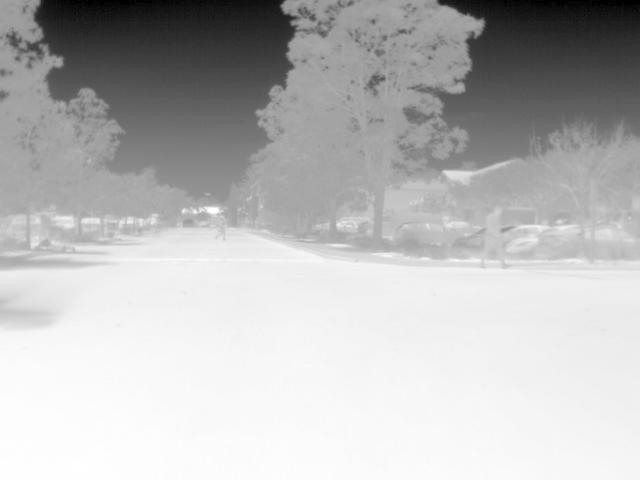car: (394, 222, 474, 244), (378, 213, 442, 234), (501, 221, 548, 244), (536, 222, 583, 240), (29, 212, 57, 242), (4, 211, 28, 244), (80, 218, 102, 239), (509, 236, 540, 250), (354, 218, 372, 236), (181, 216, 197, 230)
person: (475, 205, 510, 269), (213, 211, 229, 241)
